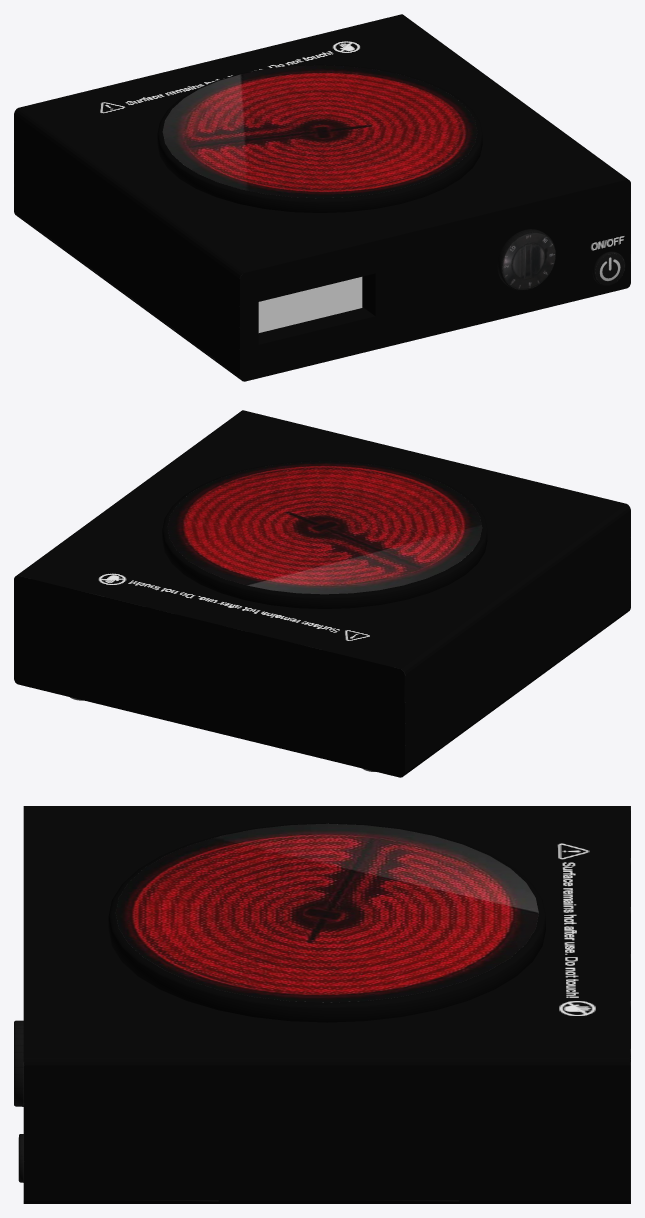
The model's file is stove.fbx.
The picture shows the model from 3 angles, top to bottom: view 1: azimuth 30°, elevation 25°; view 2: azimuth 150°, elevation 25°; view 3: azimuth 270°, elevation 25°; orthographic projection. The views are drawn at different scales.
Parts seen in each view (by area): view 1: board, stove top, light, knob, on; view 2: board, stove top; view 3: board, stove top, knob.
Part boxes in pixels (x1,y1,x2,y2): board: (14,14,630,381); stove top: (157,64,482,212); light: (258,277,362,332); knob: (497,229,555,290); on: (592,251,625,285); board: (14,410,630,777); stove top: (162,460,487,608); board: (23,806,630,1203); stove top: (108,823,545,1022); knob: (14,1020,23,1106).
Bounding box in the file's own units: 200 × 66.58 × 203.
5 materials, 4 textured.
